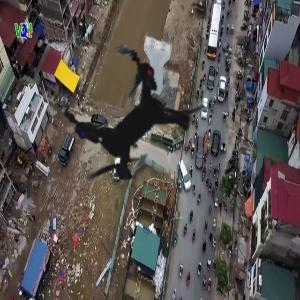drone: (5, 3, 253, 251)
